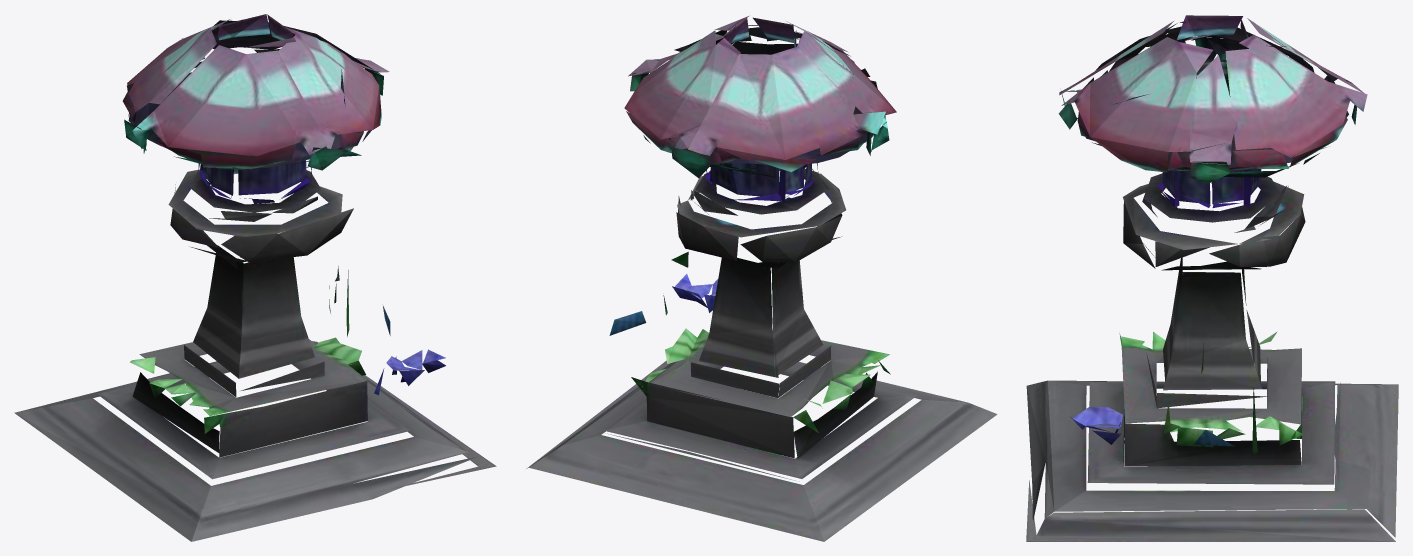
File: stone_lantern.glb
3 views of the same model, side by side, from view 1: azimuth 30°, elevation 25°; view 2: azimuth 150°, elevation 25°; view 3: azimuth 270°, elevation 25° (orthographic). The views are drawn at different scales.
Visible parts, largest first — view 1: geometry_0; view 2: geometry_0; view 3: geometry_0.
Boxes of the visible parts, x1=… form: geometry_0: x1=14, y1=14, x2=496, y2=541; geometry_0: x1=526, y1=16, x2=997, y2=541; geometry_0: x1=1026, y1=15, x2=1398, y2=541.
Size of the model in its own units: 0.6942 by 0.9005 by 0.6909.
Materials: 1 (1 with a texture image).
